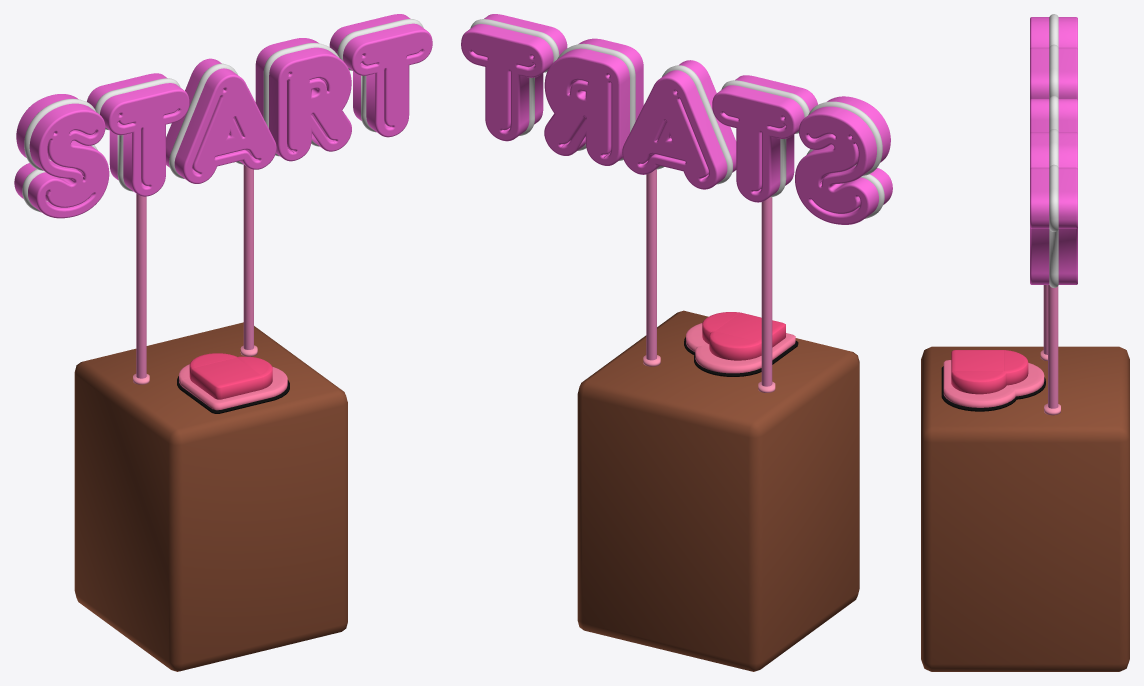
File: PushButton.fbx
3 views of the same model, side by side, from view 1: azimuth 30°, elevation 25°; view 2: azimuth 150°, elevation 25°; view 3: azimuth 270°, elevation 25° (orthographic). The views are drawn at different scales.
Visible parts, largest first — view 1: Cube.001, Text, Text.001, Cylinder.001, Cylinder.002, Cylinder.003, Cylinder; view 2: Cube.001, Text, Text.001, Cylinder.001, Cylinder.002, Cylinder.003, Cylinder; view 3: Cube.001, Text, Cylinder.001, Text.001, Cylinder, Cylinder.003, Cylinder.006, Cylinder.002.
Part boxes in pixels (x1,y1,x2,y2): Cube.001: (74,322,347,671); Text: (14,14,432,218); Text.001: (22,19,423,212); Cylinder.001: (189,353,272,399); Cylinder.002: (136,194,146,378); Cylinder.003: (243,165,253,349); Cylinder: (179,364,287,410); Cube.001: (577,310,859,671); Text: (461,14,892,224); Text.001: (470,19,884,218); Cylinder.001: (702,312,785,360); Cylinder.002: (761,197,772,386); Cylinder.003: (646,169,656,360); Cylinder: (686,323,795,373); Cube.001: (921,346,1129,671); Text: (1030,17,1077,284); Cylinder.001: (951,350,1028,394); Text.001: (1049,14,1058,287); Cylinder: (943,360,1044,407); Cylinder.003: (1048,285,1058,408); Cylinder.006: (941,366,1045,411); Cylinder.002: (1043,285,1047,354).
Bounding box in the file's own units: 225 × 289 × 100.
